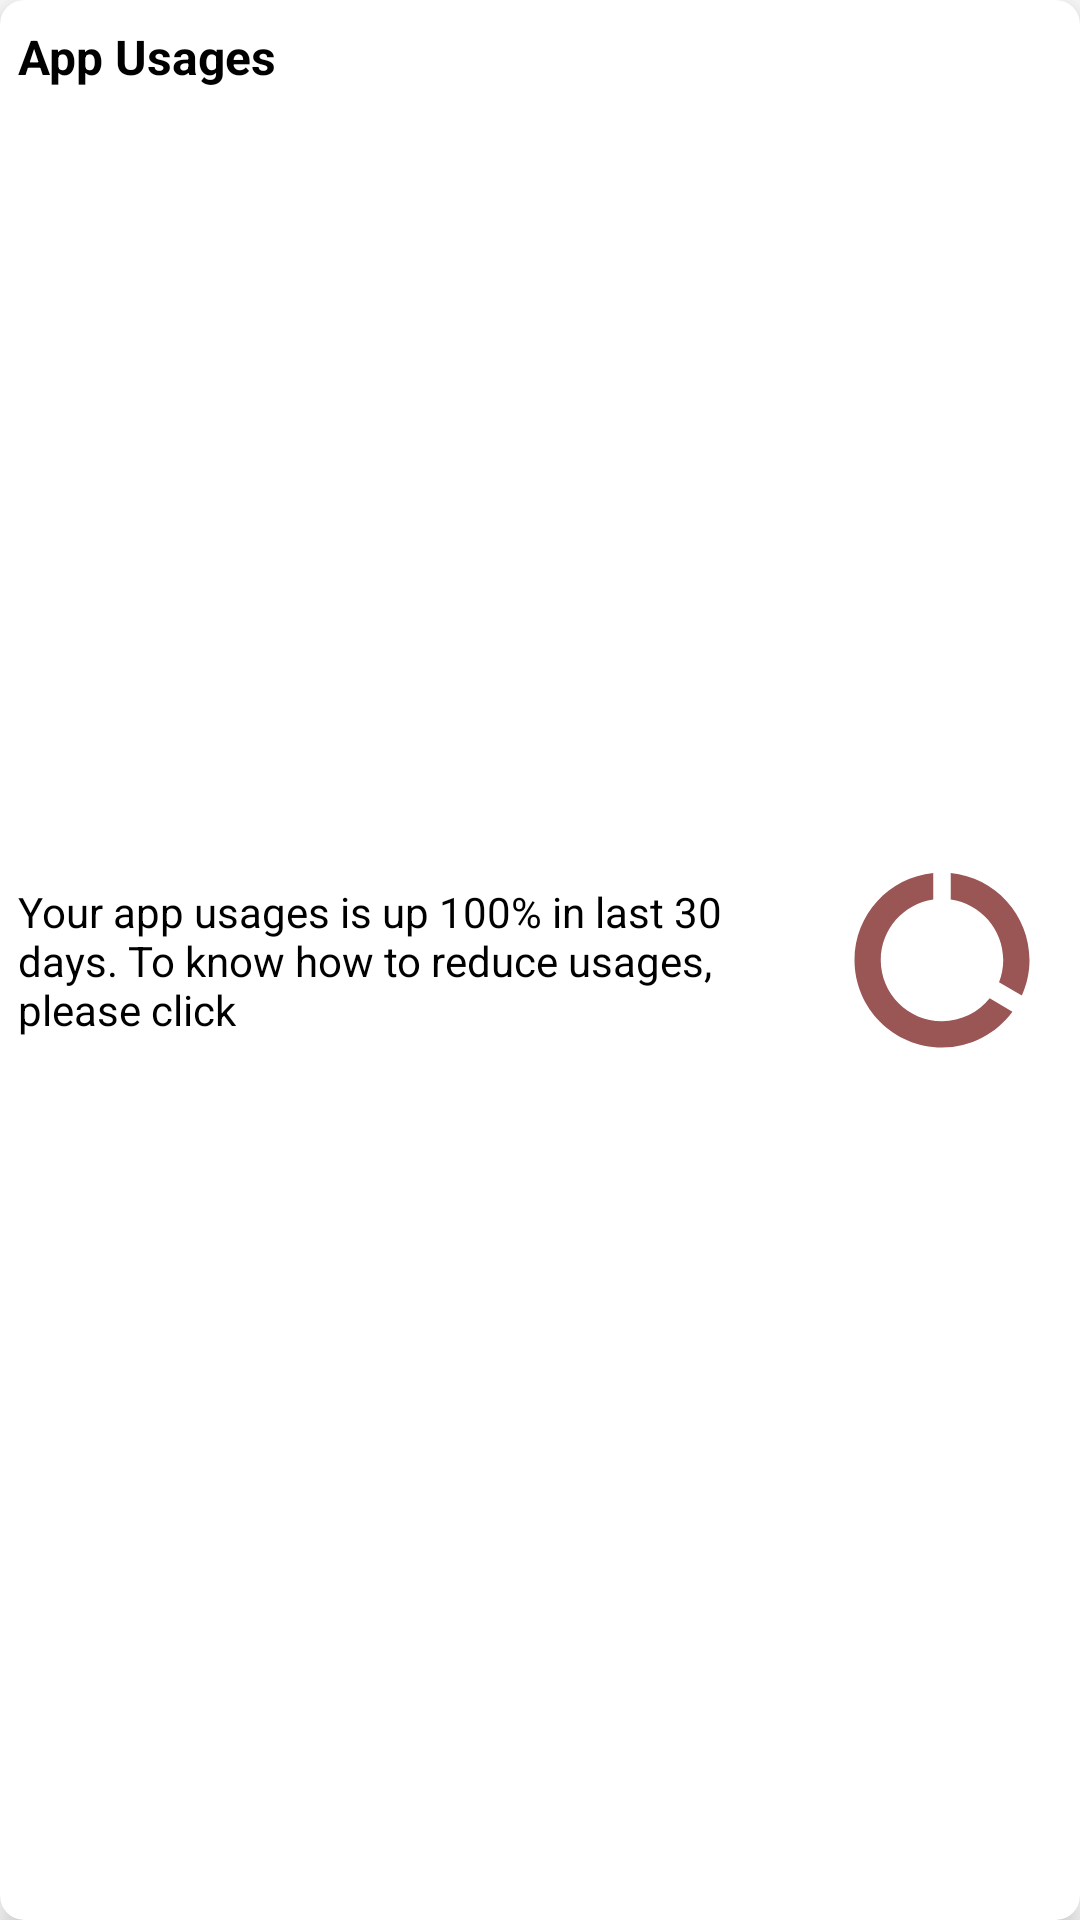

Where to tap for icons on this 1080*1920 app screen, as [x,y]:
data usage: [942,960]
